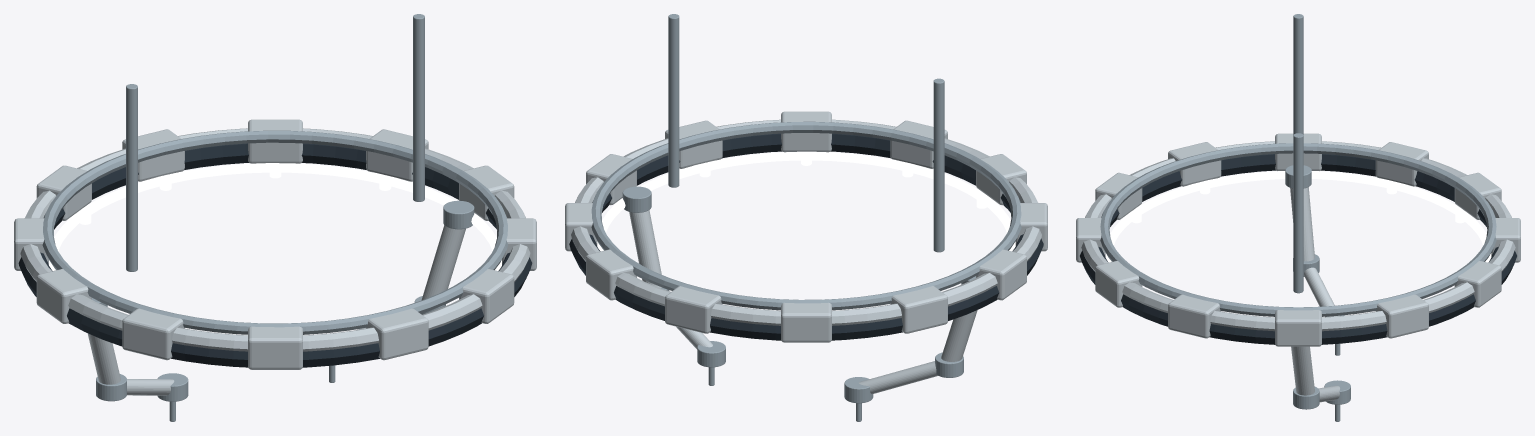
File: surgical_scan_gantry.glb
The picture shows the model from 3 angles, left to right: view 1: azimuth 30°, elevation 25°; view 2: azimuth 150°, elevation 25°; view 3: azimuth 270°, elevation 25°; orthographic projection. The views are drawn at different scales.
Visible parts, largest first — view 1: surgical_scan_gantry; view 2: surgical_scan_gantry; view 3: surgical_scan_gantry.
Boxes of the visible parts, bbox=[...] form: surgical_scan_gantry: bbox=[14, 14, 536, 421]; surgical_scan_gantry: bbox=[565, 14, 1047, 421]; surgical_scan_gantry: bbox=[1076, 14, 1520, 421].
Size of the model in its own units: 5.68 by 4.4 by 5.68.
